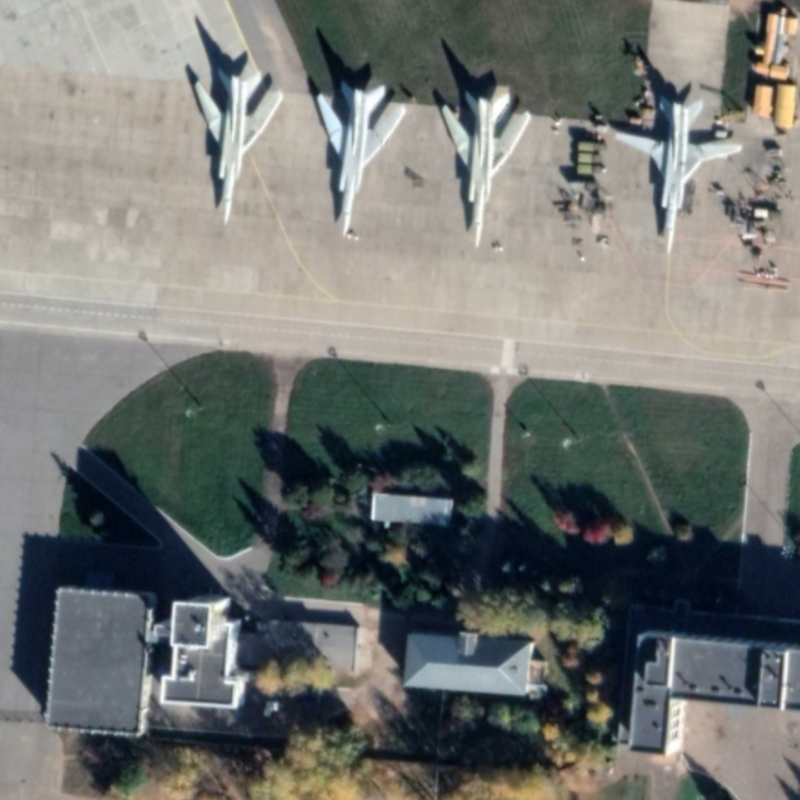A12: (606, 89, 748, 259), (306, 77, 415, 244), (431, 81, 535, 253), (186, 63, 289, 233)
